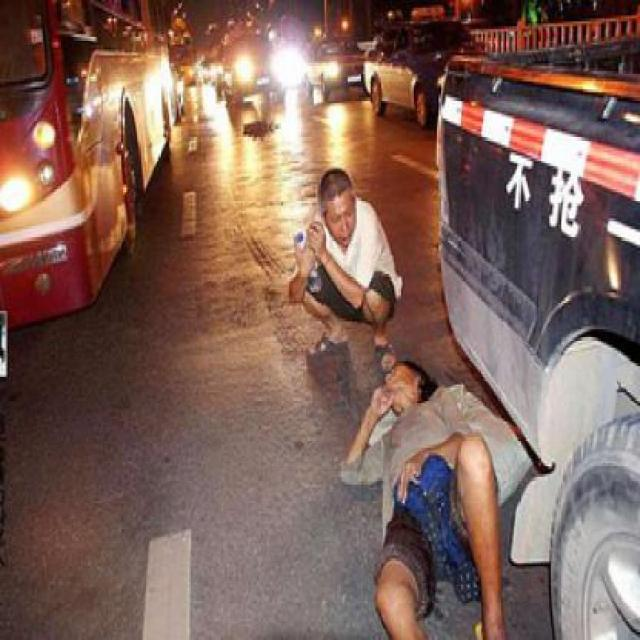fall: (328, 340, 518, 629)
